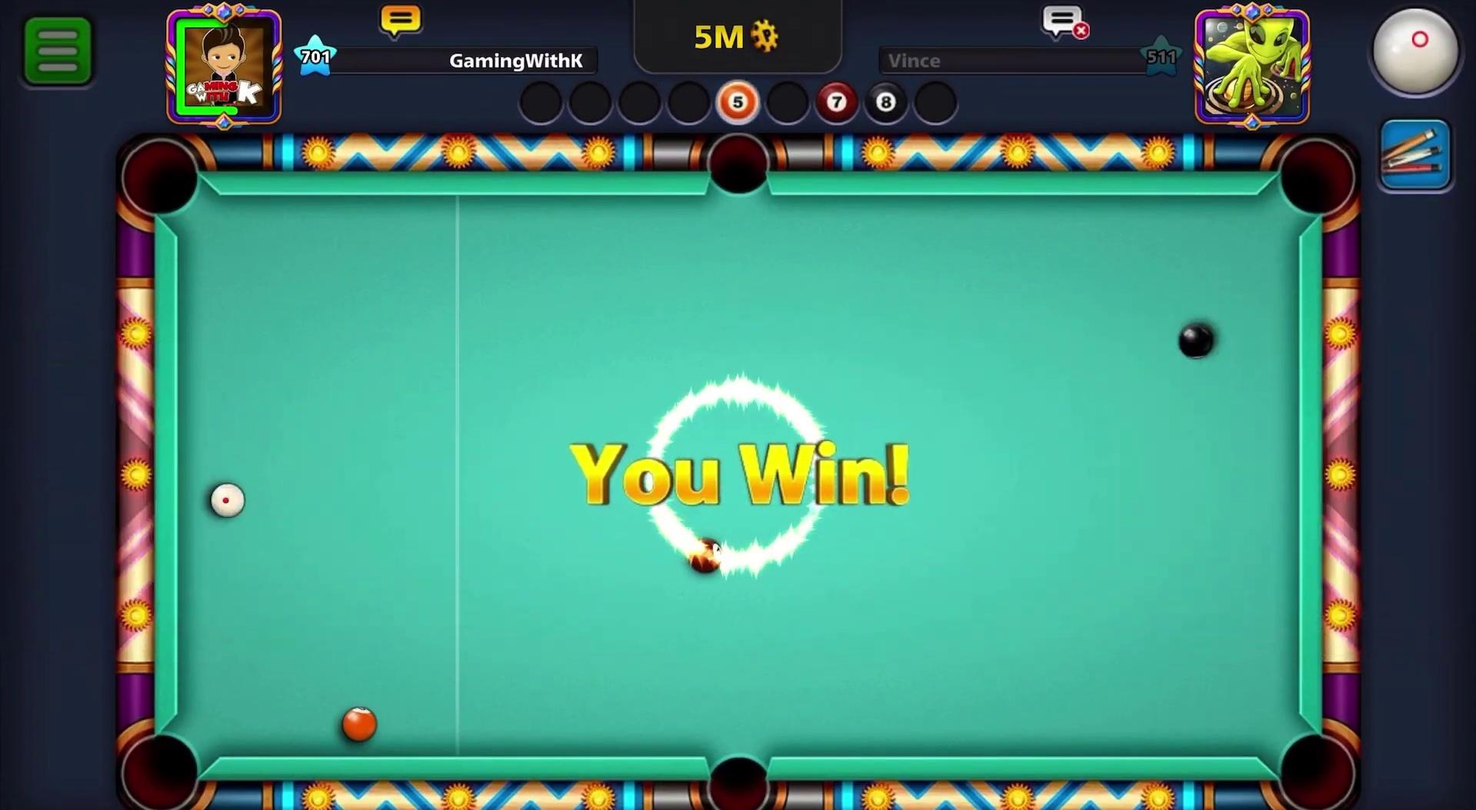Ball: (672, 523, 739, 587), (332, 704, 381, 745), (1176, 317, 1218, 360)
Hole: (1264, 131, 1368, 233), (108, 712, 217, 809), (108, 128, 212, 228), (1265, 719, 1364, 809), (688, 738, 785, 809), (701, 126, 779, 204)
Play_Area: (178, 194, 1305, 761)
Spin: (1350, 0, 1475, 112)
White: (205, 475, 249, 524)
